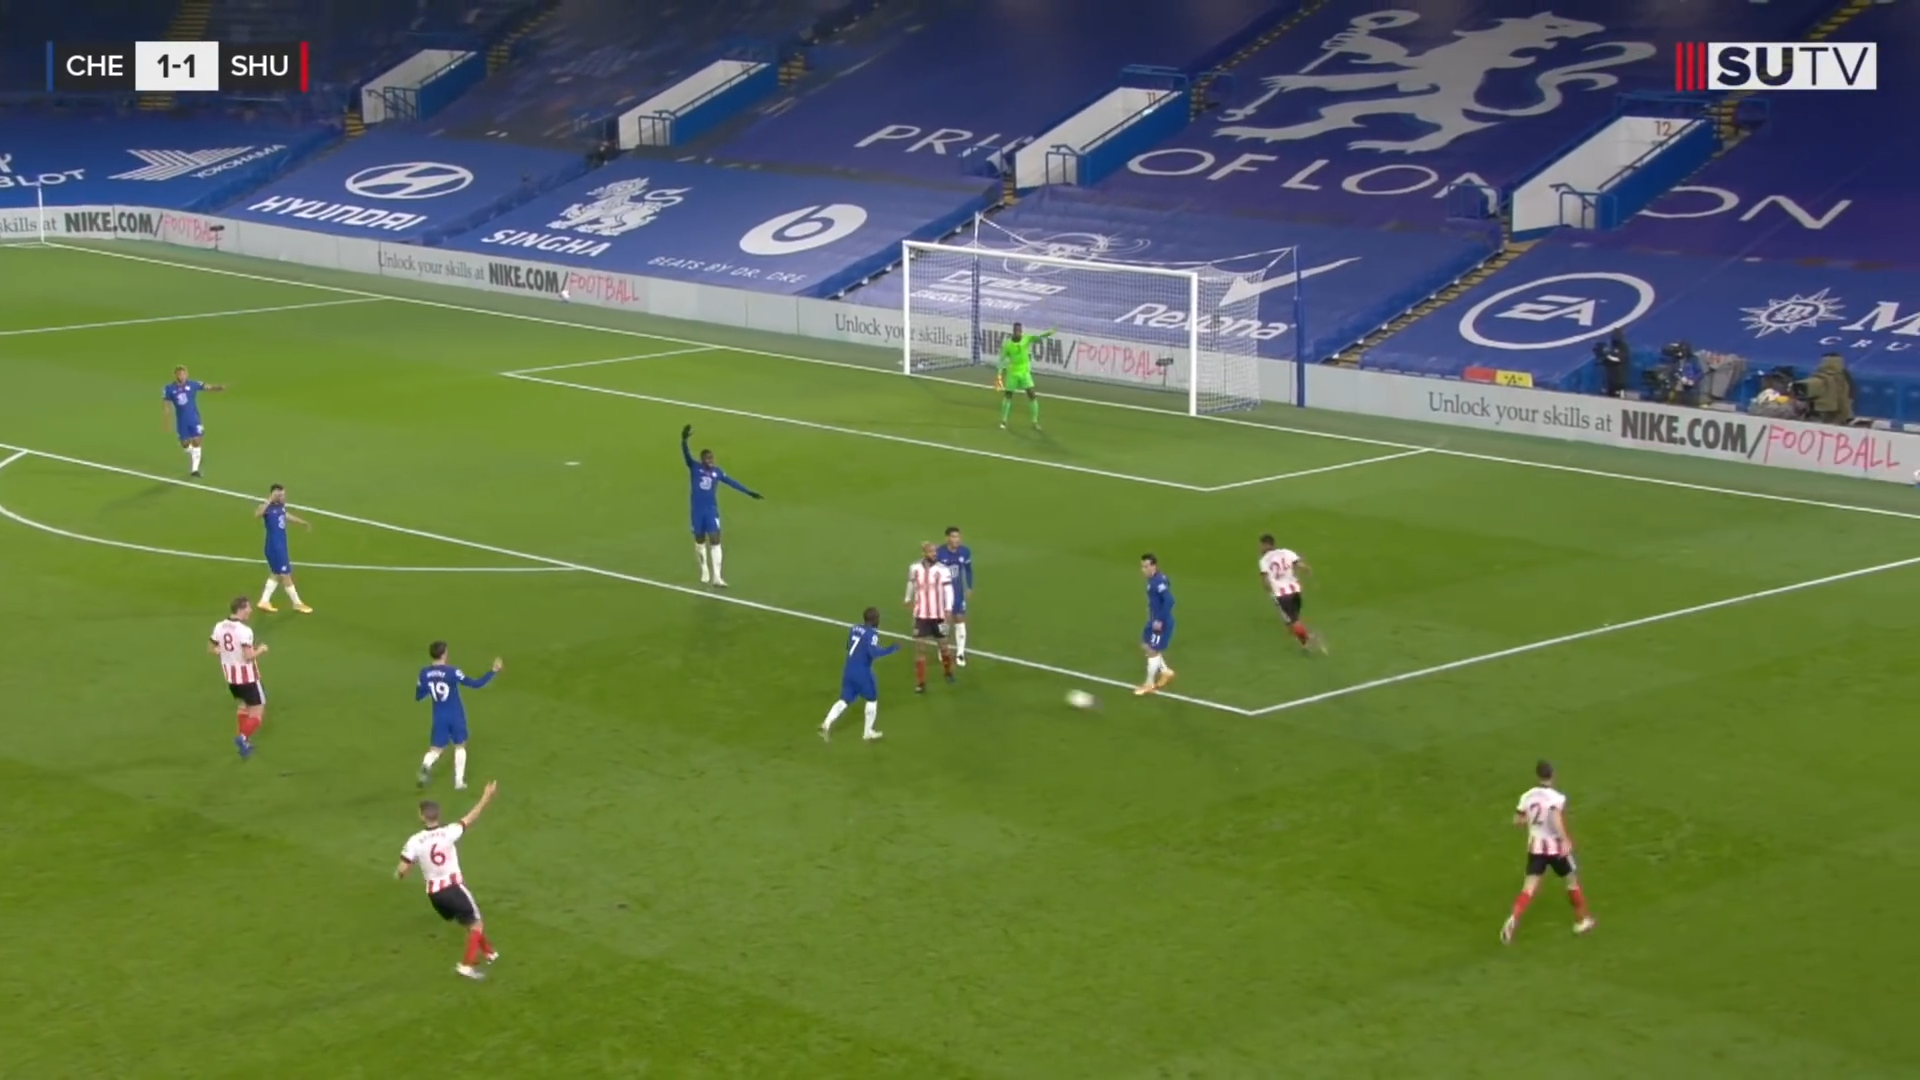Player: (375, 776, 533, 993), (1502, 742, 1593, 960), (671, 402, 765, 588), (198, 587, 282, 760), (974, 306, 1059, 437), (824, 600, 893, 750), (147, 360, 225, 479)
